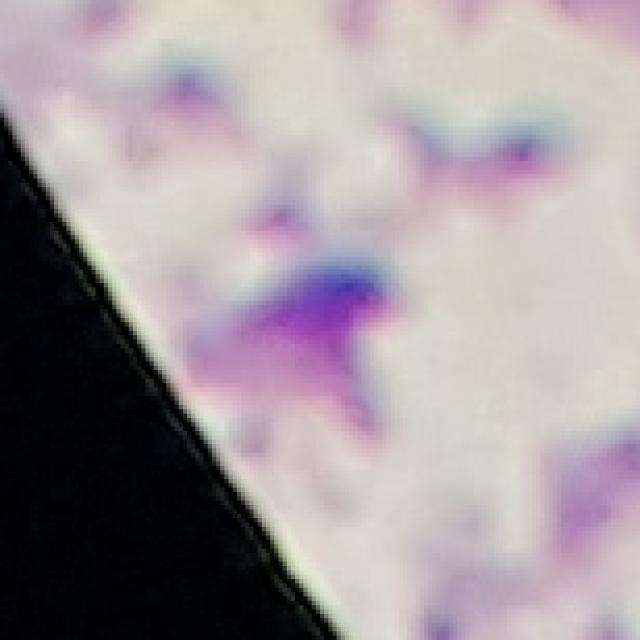non-sperm: (171, 242, 399, 445)
